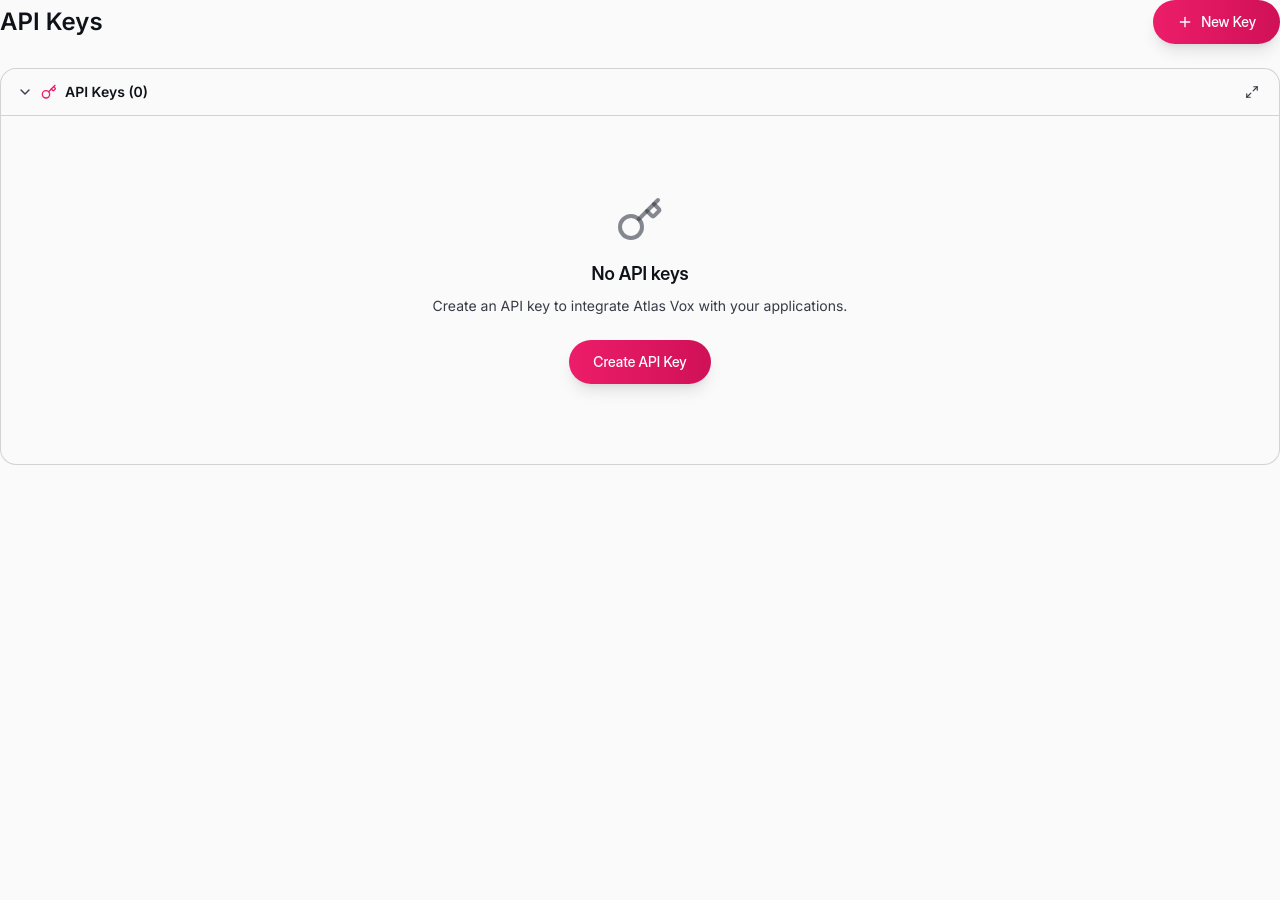
Test case: ApiKeysPage › create modal shows key name input
Click the button "New Key".
click(1217, 22)  # box [1153,0,1279,44]
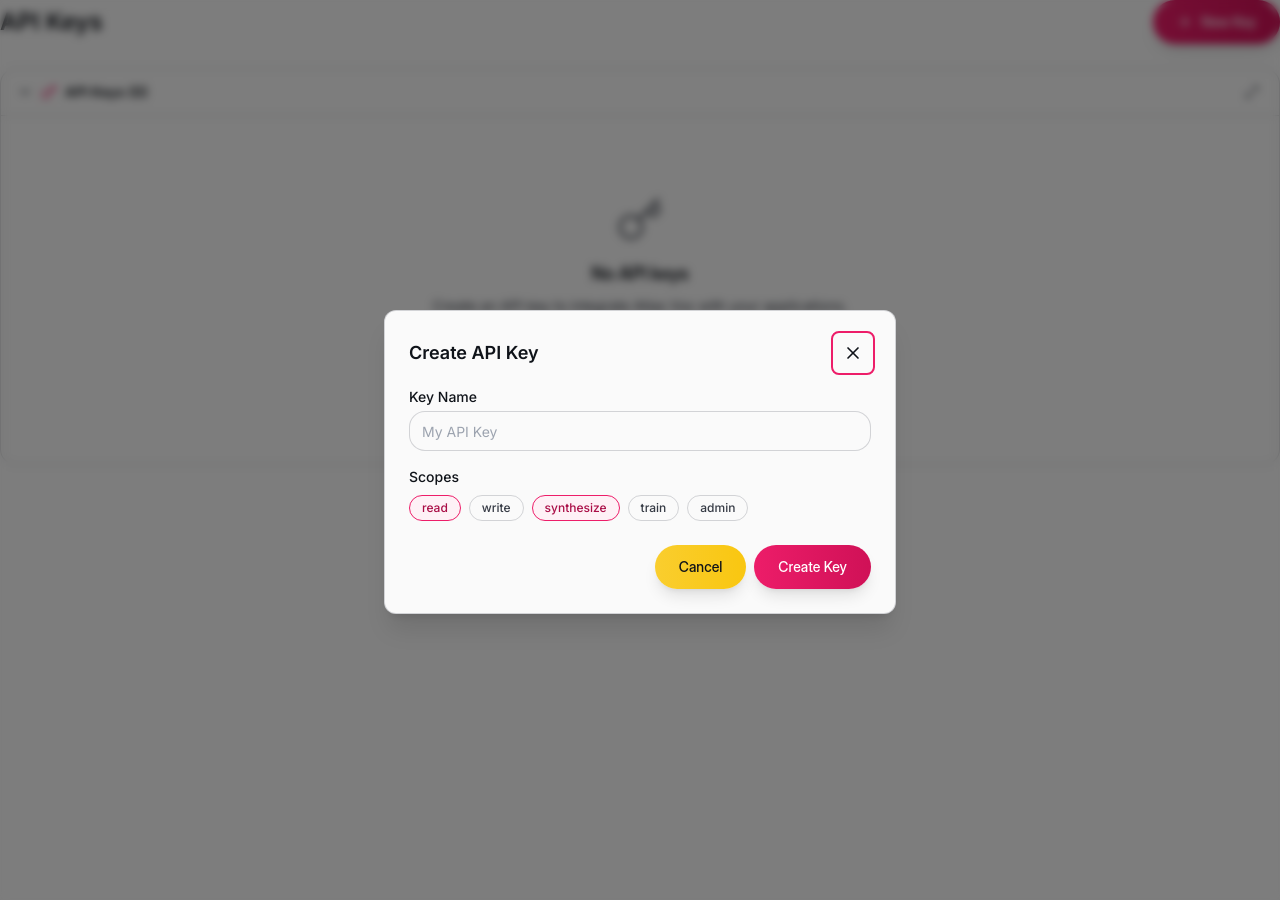
Check: the field with placeholder "My API Key" is shown, box [409,411,871,451]
